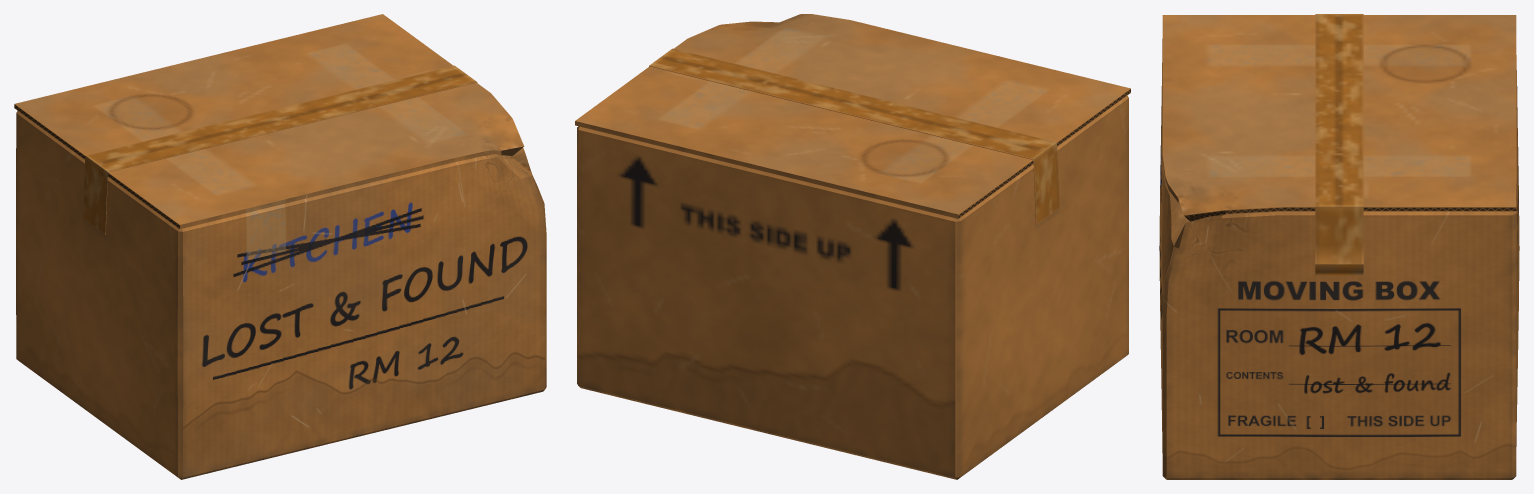
Rendered from SM_Motel_CardboardBox.glb.
The picture shows the model from 3 angles, left to right: view 1: azimuth 30°, elevation 25°; view 2: azimuth 150°, elevation 25°; view 3: azimuth 270°, elevation 25°; orthographic projection. The views are drawn at different scales.
Visible parts, largest first — view 1: SM_Motel_CardboardBox; view 2: SM_Motel_CardboardBox; view 3: SM_Motel_CardboardBox.
Part boxes in pixels (x1,y1,x2,y2): SM_Motel_CardboardBox: [14, 14, 546, 479]; SM_Motel_CardboardBox: [575, 14, 1130, 479]; SM_Motel_CardboardBox: [1159, 14, 1519, 479].
Size of what is drawn, in the model's own units: 0.4903 by 0.3008 by 0.3564.
Materials: 4 (4 with a texture image).
